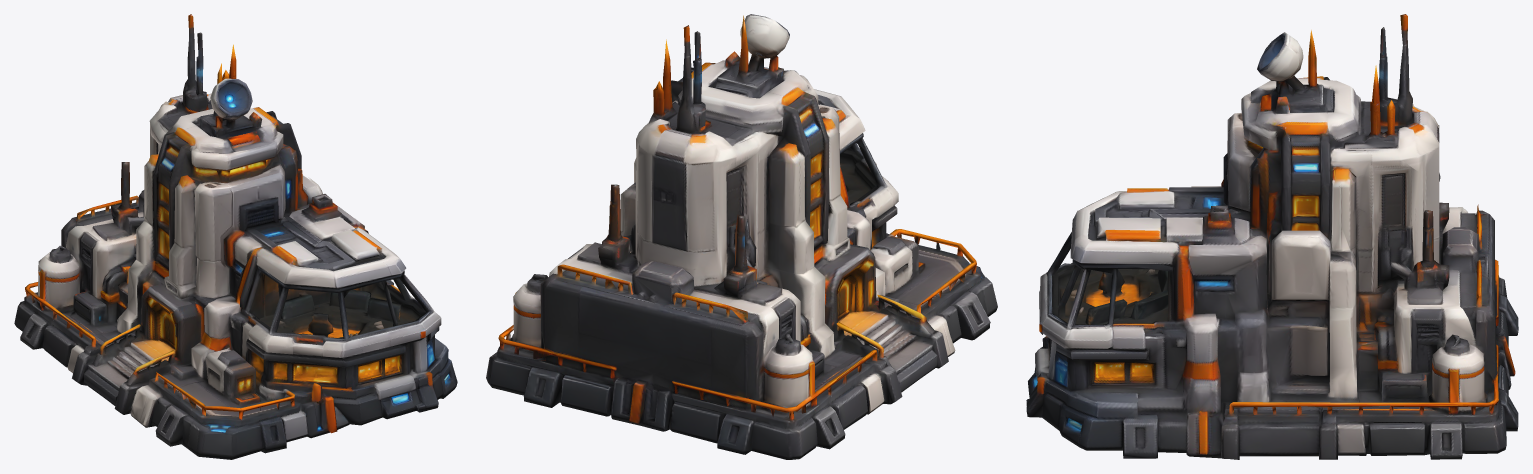
File: building-headquarters-l1.glb
3 views of the same model, side by side, from view 1: azimuth 30°, elevation 25°; view 2: azimuth 150°, elevation 25°; view 3: azimuth 270°, elevation 25° (orthographic). The views are drawn at different scales.
Visible parts, largest first — view 1: tripo_node_49486616-ff66-4903-bbac-268d07d2dfbb; view 2: tripo_node_49486616-ff66-4903-bbac-268d07d2dfbb; view 3: tripo_node_49486616-ff66-4903-bbac-268d07d2dfbb.
Boxes of the visible parts, <box> form: tripo_node_49486616-ff66-4903-bbac-268d07d2dfbb: <box>14,14,457,459</box>; tripo_node_49486616-ff66-4903-bbac-268d07d2dfbb: <box>486,14,997,459</box>; tripo_node_49486616-ff66-4903-bbac-268d07d2dfbb: <box>1026,14,1518,459</box>.
Bounding box in the file's own units: 0.7933 × 0.8105 × 0.9789.
Materials: 1 (1 with a texture image).
